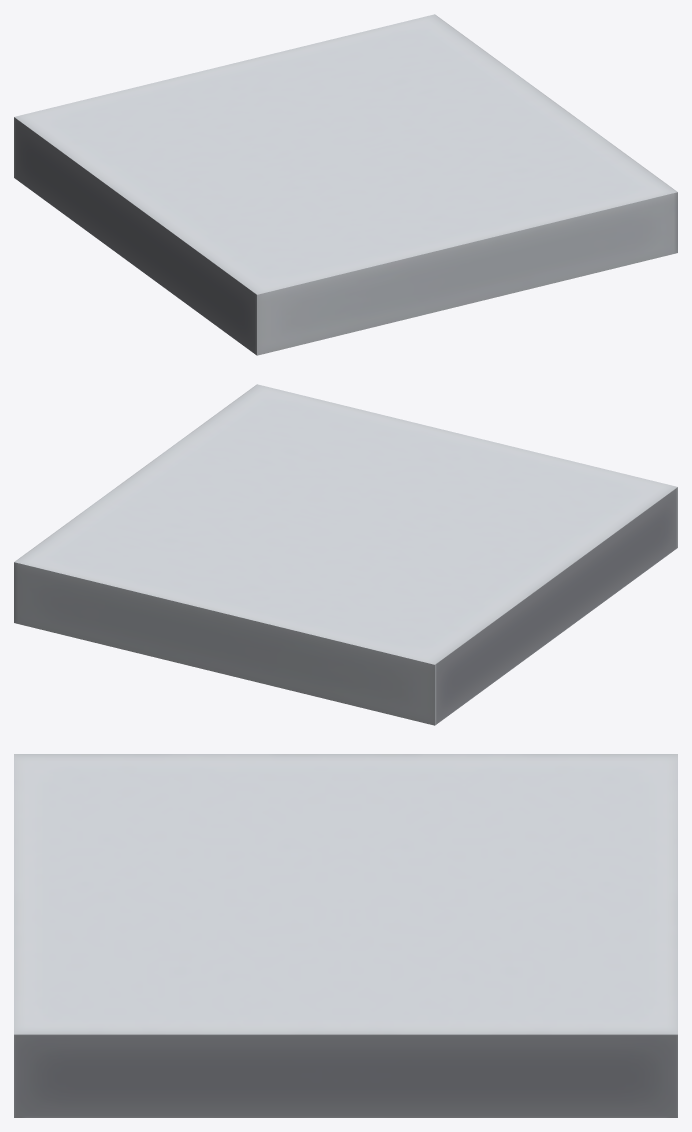
Rendered from platform_9.fbx.
The picture shows the model from 3 angles, top to bottom: view 1: azimuth 30°, elevation 25°; view 2: azimuth 150°, elevation 25°; view 3: azimuth 270°, elevation 25°; orthographic projection. The views are drawn at different scales.
Visible parts, largest first — view 1: Cylinder.083; view 2: Cylinder.083; view 3: Cylinder.083.
Part boxes in pixels (x1,y1,x2,y2): Cylinder.083: (14, 14, 677, 355); Cylinder.083: (14, 384, 677, 725); Cylinder.083: (14, 754, 677, 1117).
Size of the model in its own units: 2059 by 285 by 2059.
Materials: 1 (1 with a texture image).
